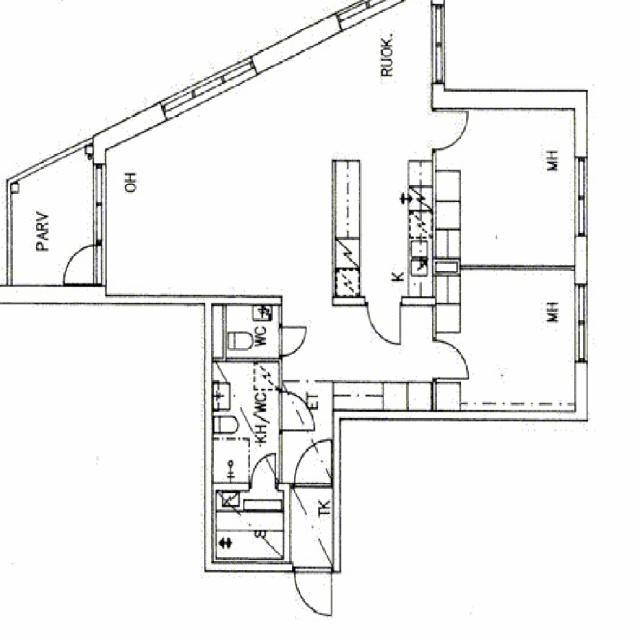door: (295, 562, 331, 615), (294, 438, 330, 487), (61, 245, 106, 283), (366, 296, 399, 346), (431, 111, 468, 149), (432, 339, 468, 378), (280, 392, 314, 430), (251, 454, 275, 490), (280, 326, 306, 354)
